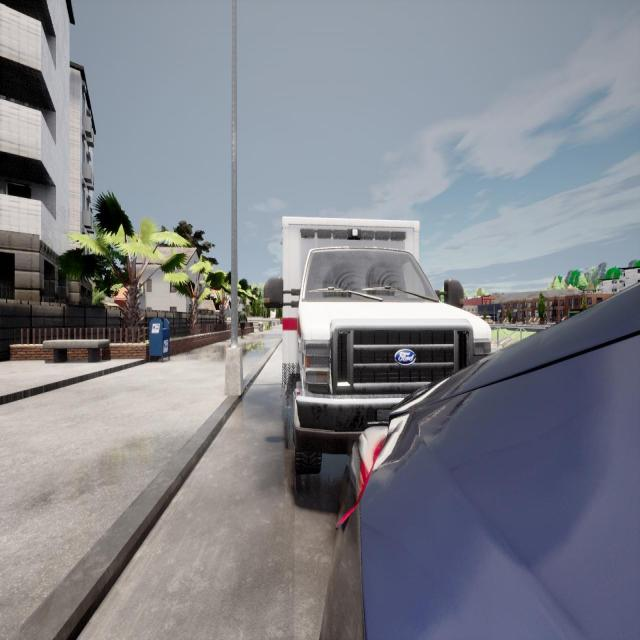Pedestrian: (238, 308, 248, 340)
Vehicle: (322, 292, 640, 640), (263, 218, 492, 476)
